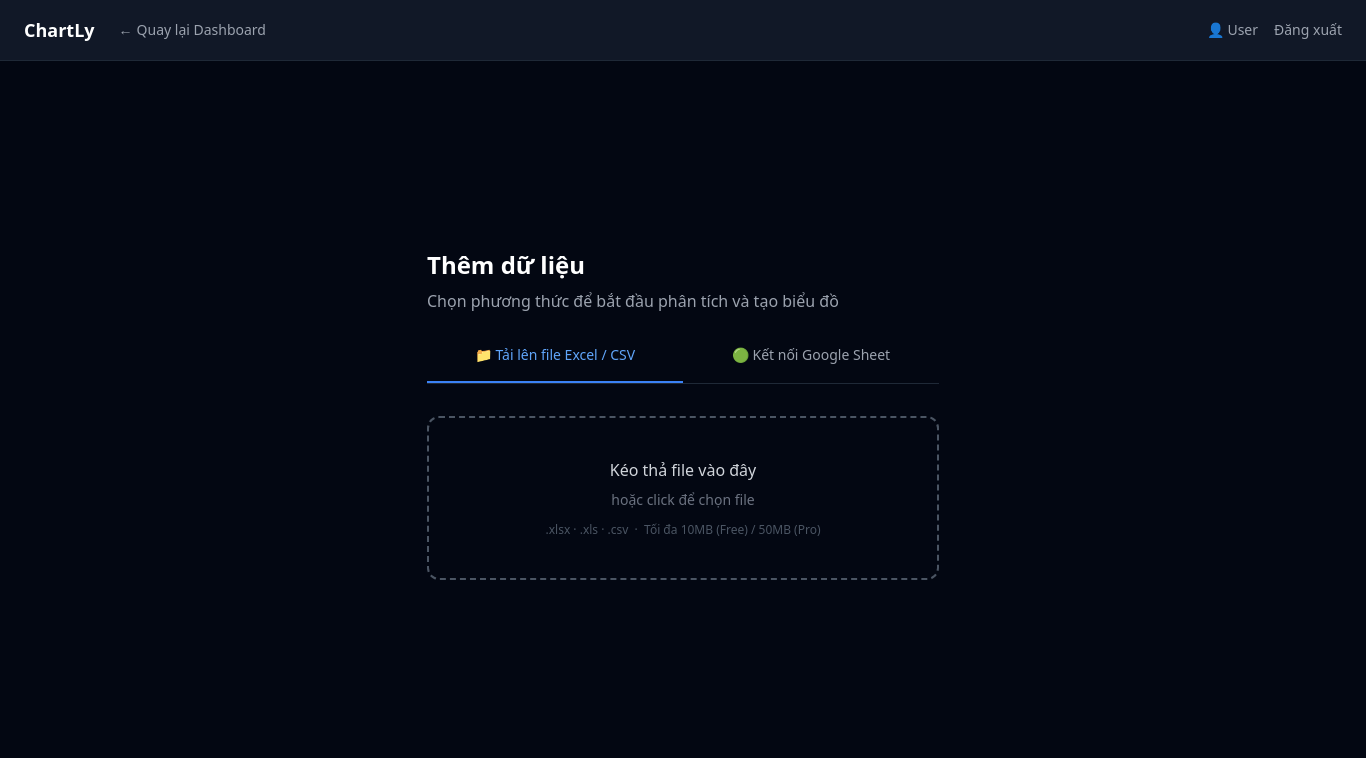
Test: UploadPage › displays error message on Google Sheet connection failure
The image size is (1366, 758).
Click the button "🟢 Kết nối Google Sheet" at x=811, y=364, box x1=683 y1=345 x2=939 y2=383
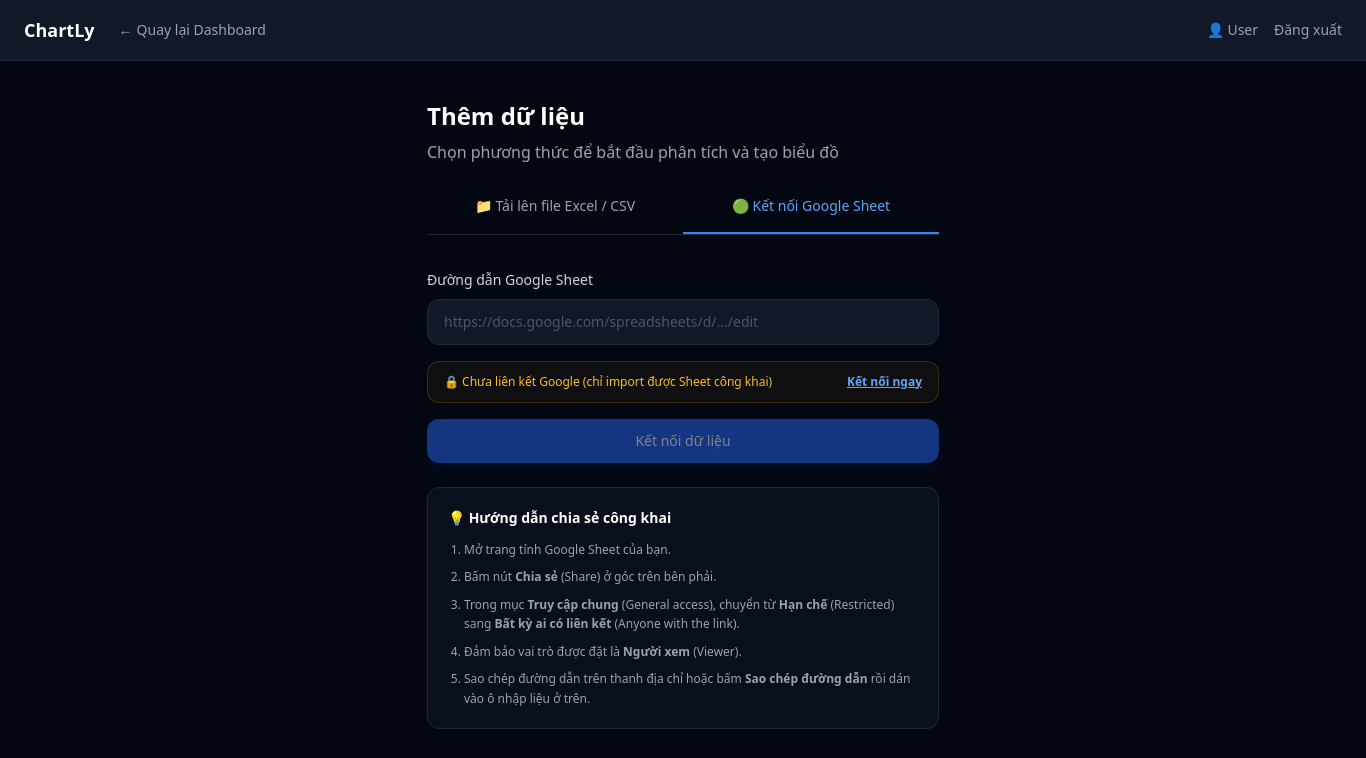
Type "https://docs.google.com/spreadsheets/d/private/edit" into the field with placeholder "https://docs.google.com/spreadsheets/d/.../edit" at x=683, y=322, box x1=427 y1=299 x2=939 y2=345
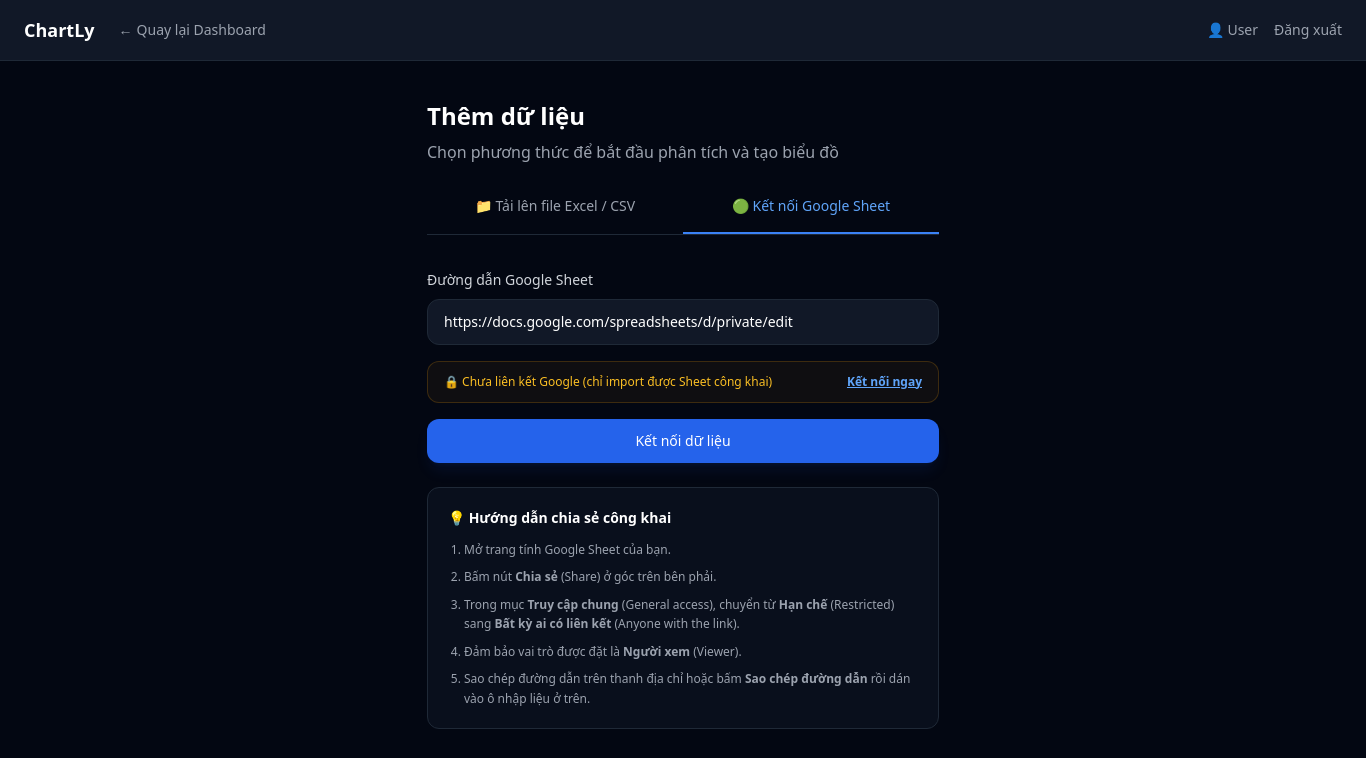
Submit the form, box x1=427 y1=267 x2=939 y2=463
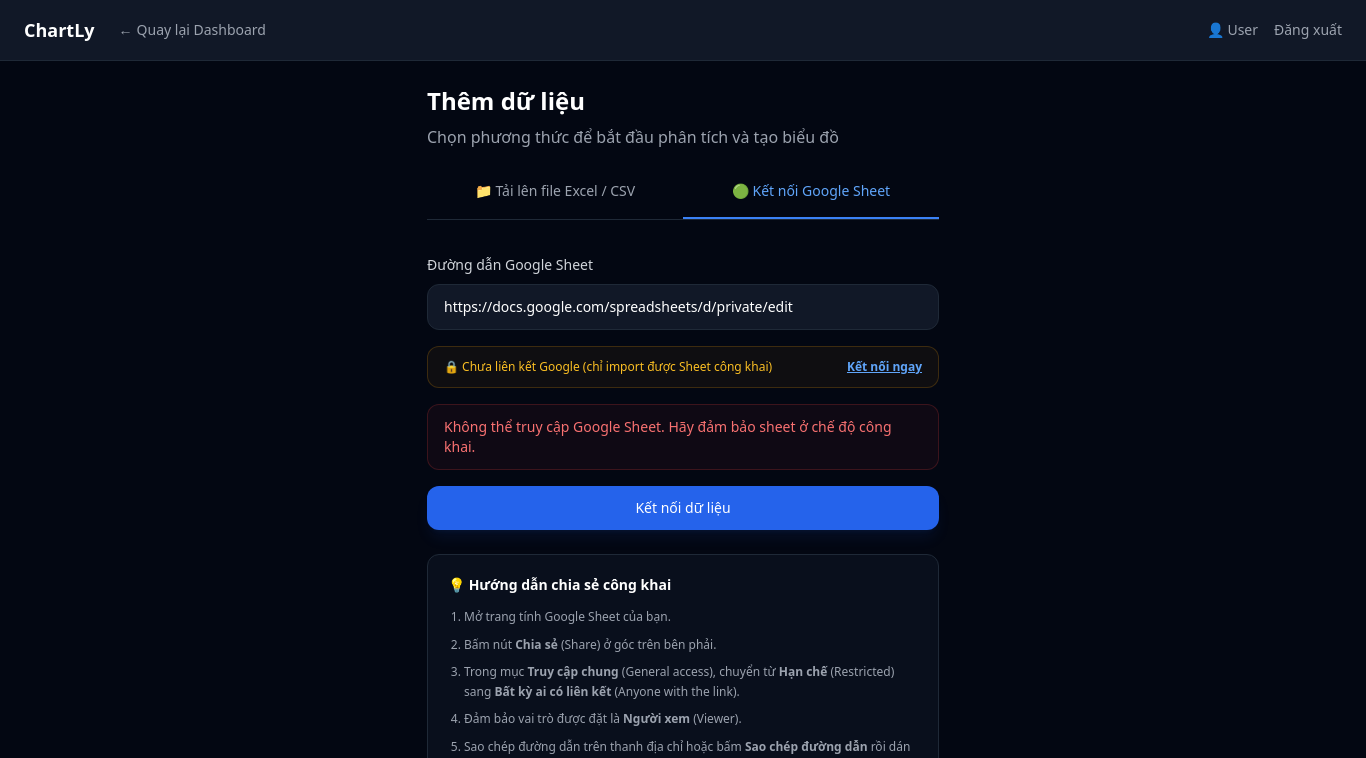
Result: the message reads "Không thể truy cập Google Sheet. Hãy đảm bảo sheet ở chế độ công khai." at x1=444 y1=417 x2=892 y2=456
